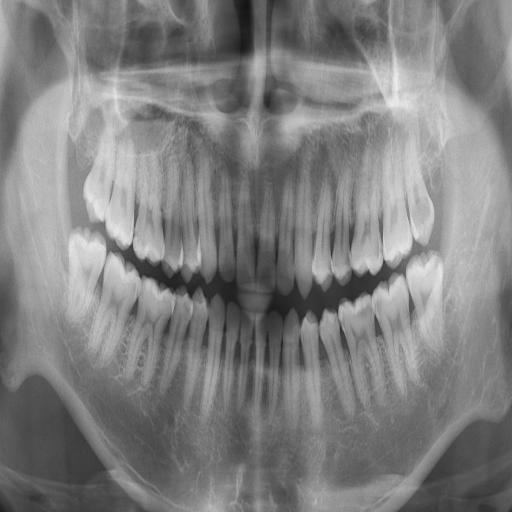Wisdom teeth: (406, 253, 442, 349), (69, 230, 105, 317), (405, 142, 433, 244), (83, 129, 114, 221)
